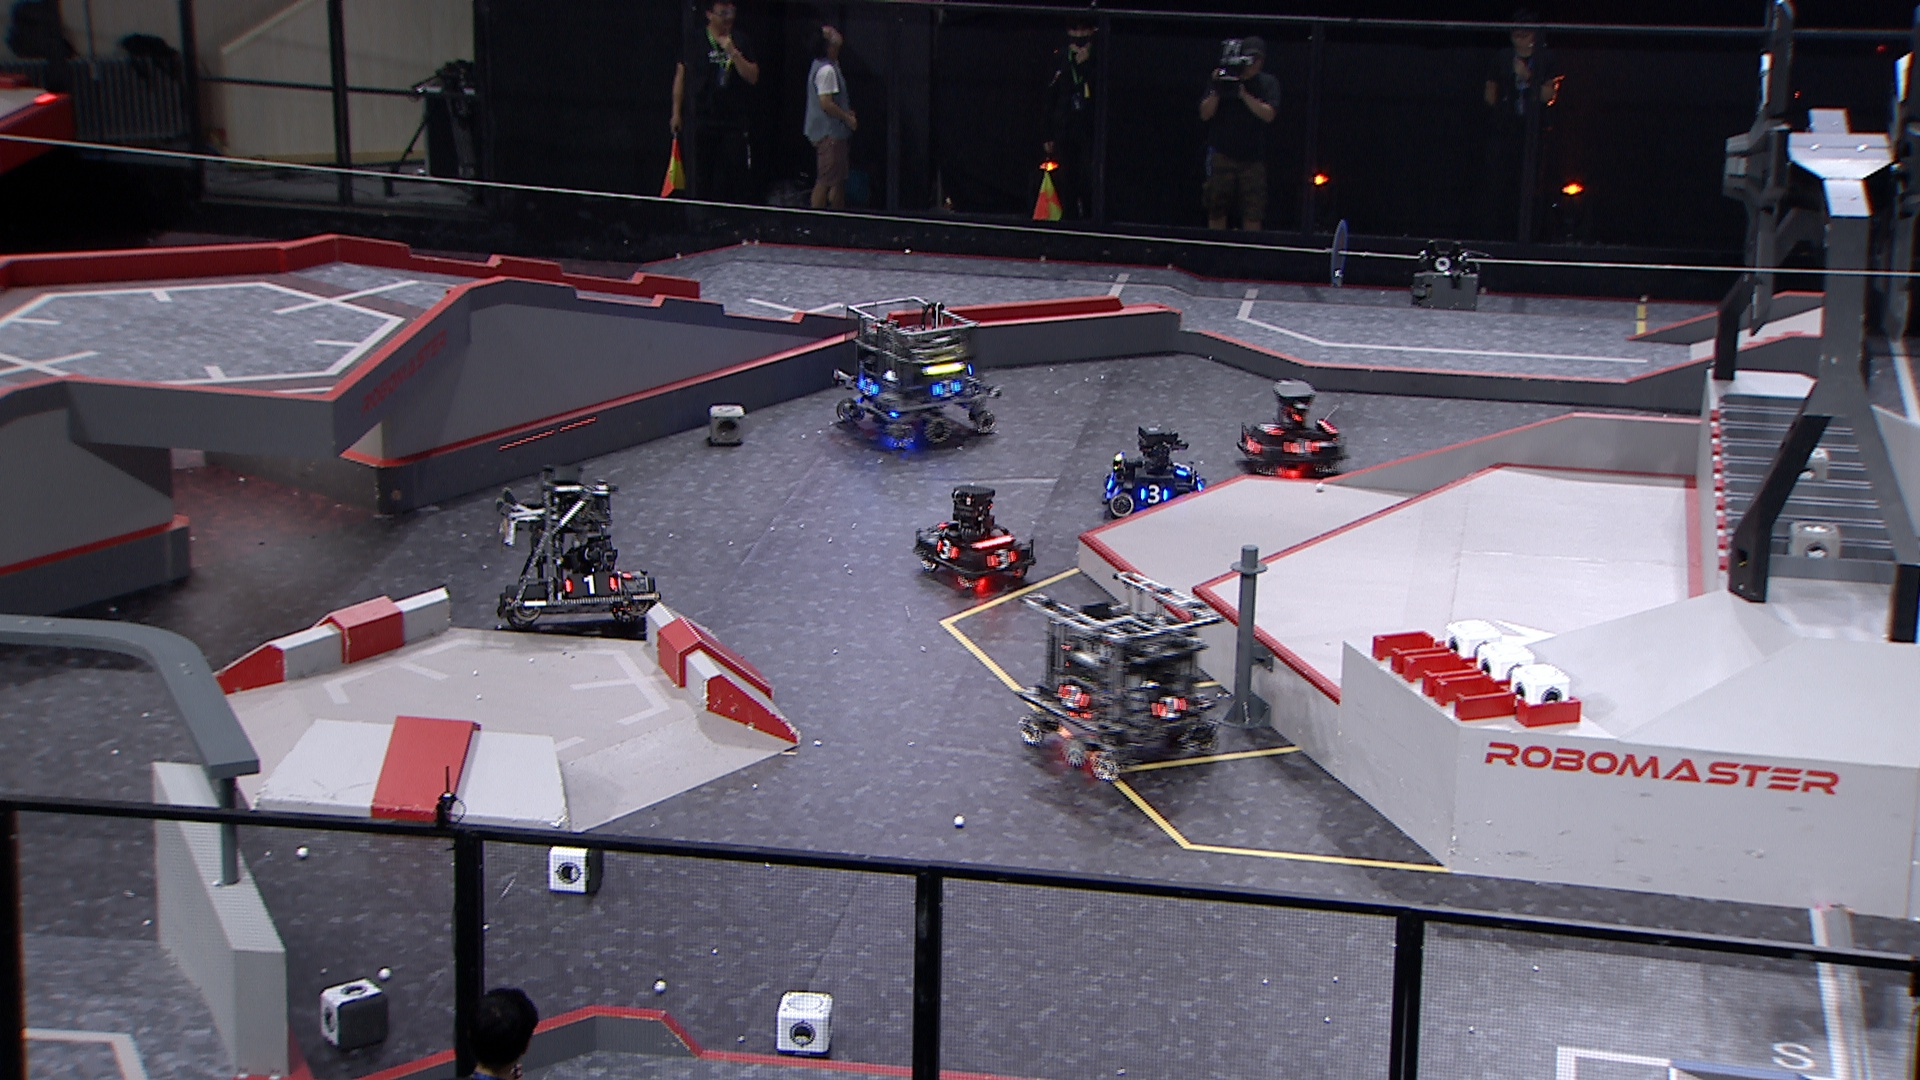armor: (562, 570, 615, 597), (1055, 680, 1087, 709), (1153, 694, 1185, 719), (986, 549, 1019, 568), (855, 373, 880, 396), (936, 537, 957, 562), (1287, 438, 1313, 458), (935, 378, 961, 398), (1139, 484, 1168, 501), (1240, 436, 1259, 455), (1102, 473, 1121, 493), (1262, 419, 1280, 436), (1176, 462, 1189, 475)
car: (1007, 572, 1216, 781), (491, 467, 659, 636), (832, 294, 1001, 450), (916, 484, 1034, 584), (1236, 378, 1346, 481), (1098, 419, 1207, 522)
